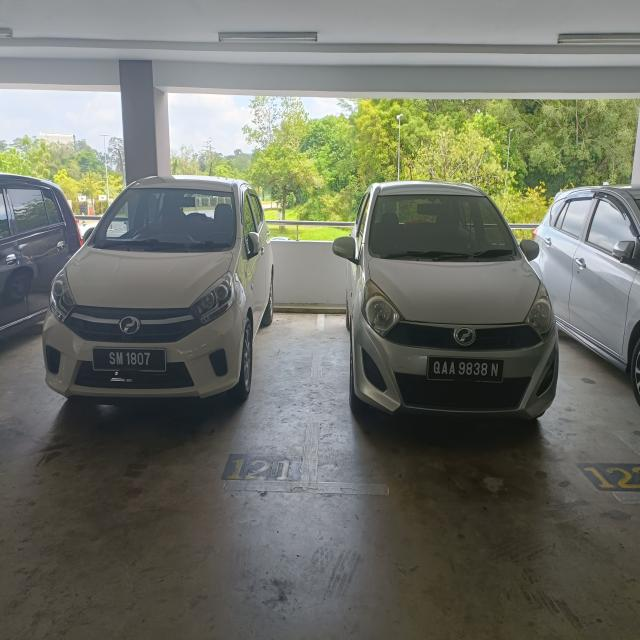PeroduaAxia: (331, 178, 560, 423), (41, 173, 275, 404)
